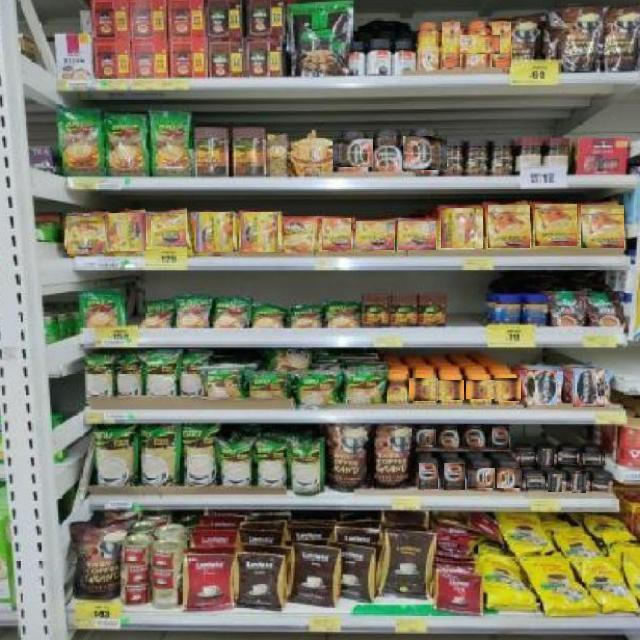Coffee: (581, 205, 624, 248), (487, 205, 530, 248), (534, 204, 577, 246), (441, 207, 483, 248), (399, 136, 447, 170), (66, 215, 105, 254), (196, 211, 233, 252), (106, 214, 146, 251), (242, 212, 278, 252), (574, 368, 605, 407), (334, 137, 373, 167), (355, 220, 394, 250), (374, 131, 403, 171), (150, 214, 186, 246), (398, 220, 436, 250), (526, 370, 557, 405), (284, 218, 316, 251), (321, 217, 351, 250), (491, 22, 511, 67), (454, 35, 500, 54), (442, 22, 460, 67), (420, 23, 437, 68), (410, 378, 438, 401), (493, 378, 521, 401), (466, 379, 496, 399), (387, 375, 408, 403), (444, 462, 465, 490), (468, 467, 495, 488), (437, 380, 464, 400), (418, 462, 438, 489), (496, 468, 522, 488), (465, 425, 484, 448), (412, 428, 436, 445), (491, 426, 509, 448), (440, 425, 457, 448), (582, 452, 605, 465), (572, 472, 586, 493), (592, 477, 613, 491), (539, 448, 554, 467), (525, 476, 545, 490), (558, 450, 577, 464), (548, 474, 562, 492), (519, 450, 535, 464)
